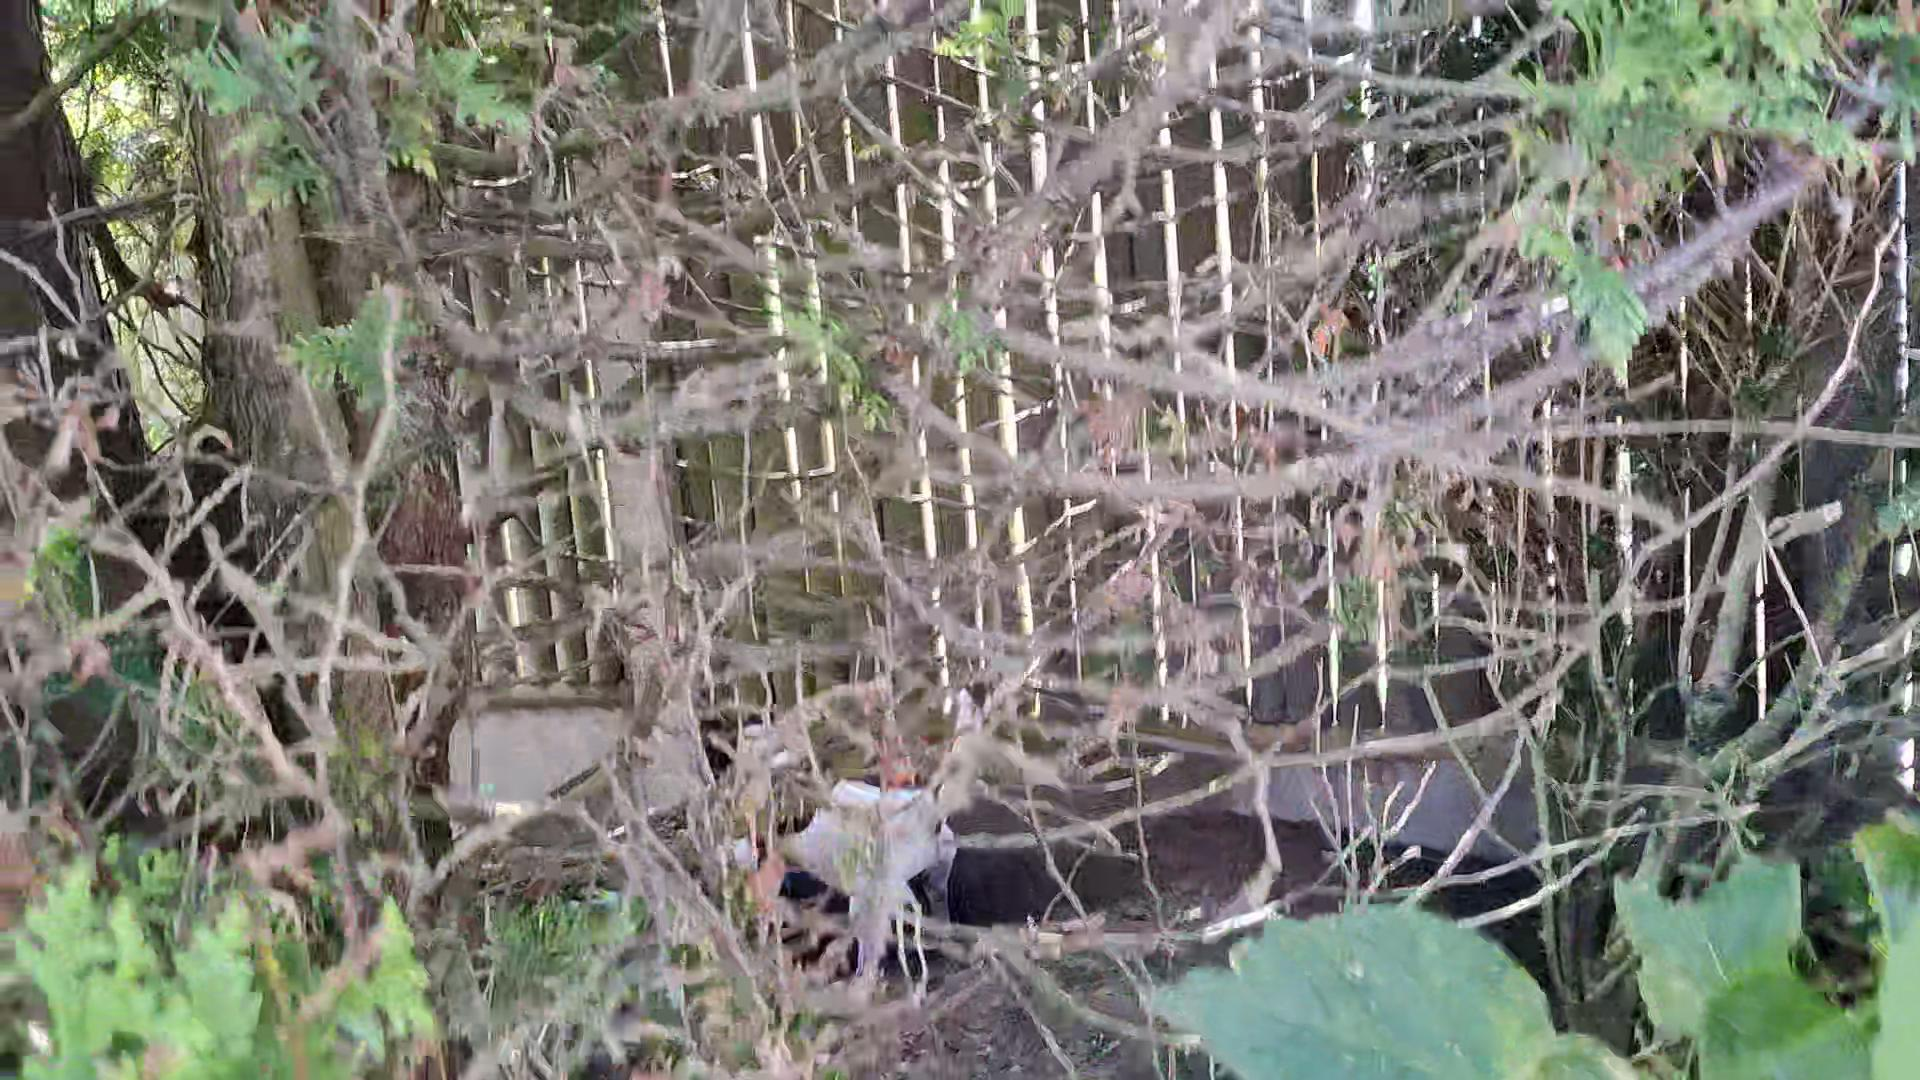Dog: (700, 703, 971, 1011)
